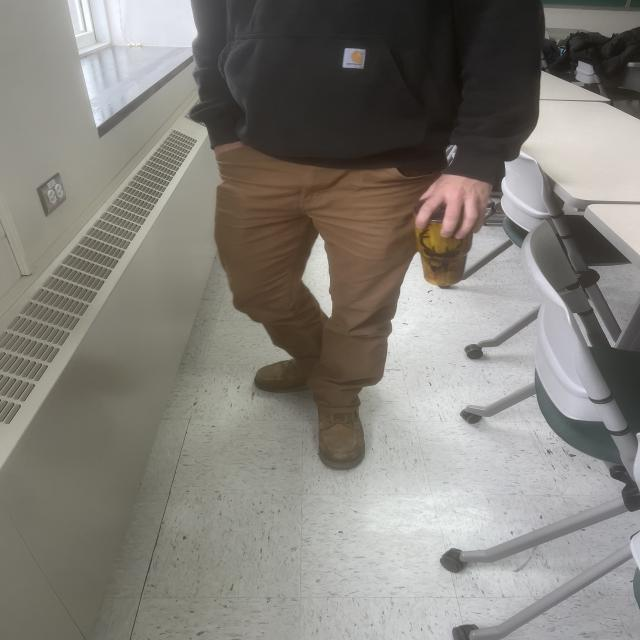Boots: (248, 356, 372, 473)
